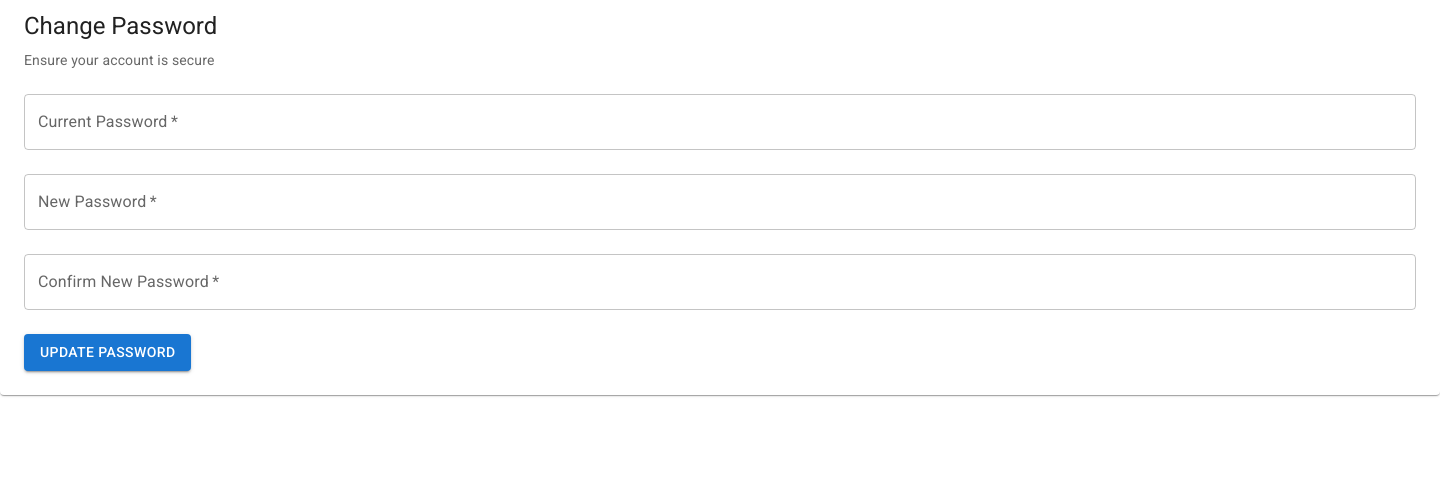
Scenario: UpdatePasswordForm › shows success and clears fields on successful update
The width and height of the screenshot is (1440, 478).
In the password field labelled "Current Password *": (720, 122) [24,94,1416,150], type "oldpass"
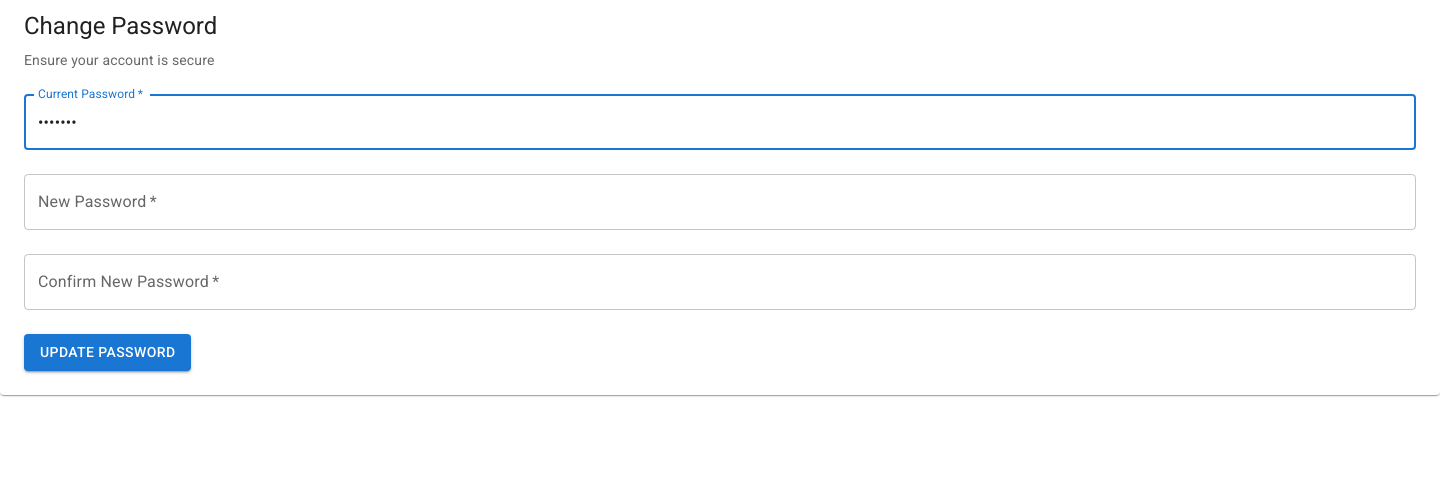
In the password field labelled "New Password *": (720, 202) [24,174,1416,230], type "newpass"
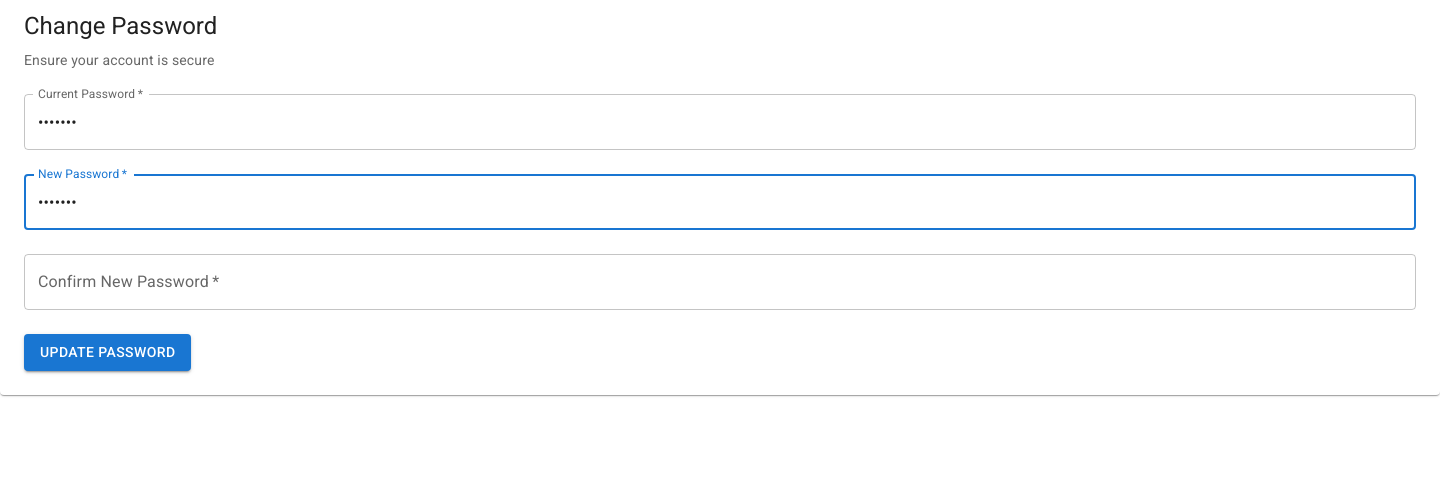
In the password field labelled "Confirm New Password *": (720, 282) [24,254,1416,310], type "newpass"
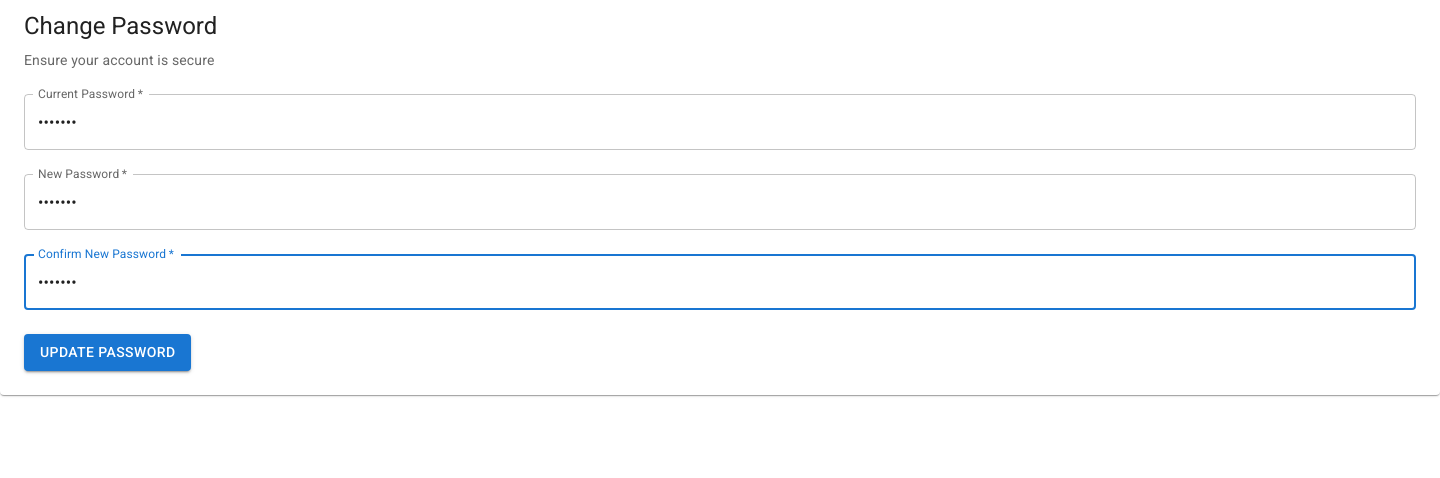
Click the button with test id "update-password-button": (108, 353) [24,334,192,371]
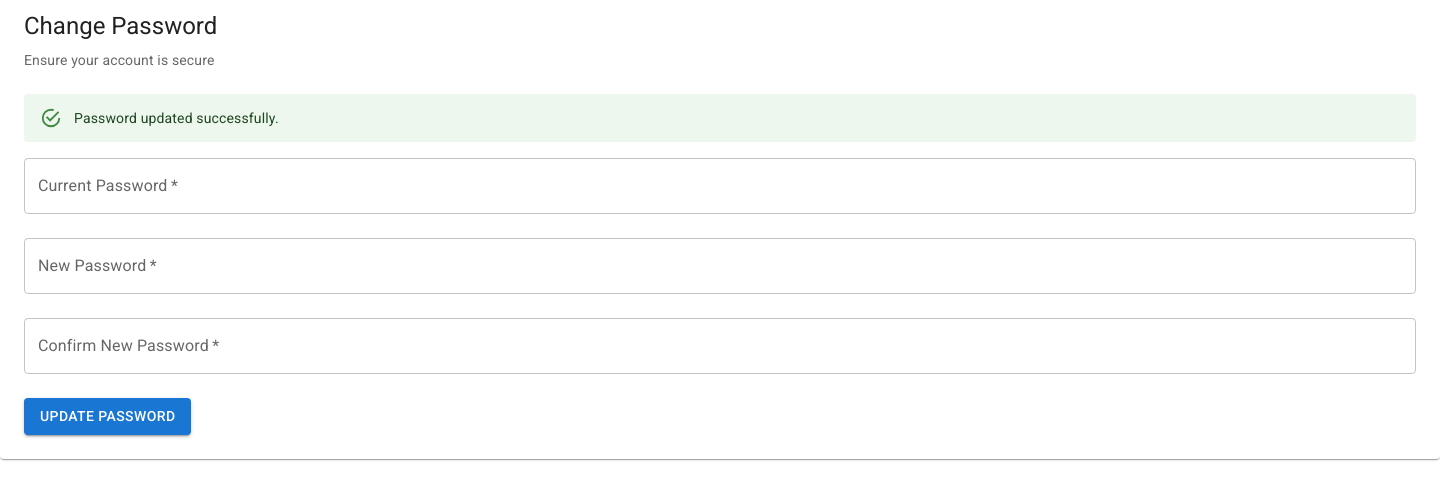
Check: the text "Password updated successfully." is shown, box [74,110,279,126]
Check: the password field labelled "Current Password *" is empty, box [24,158,1416,214]
Check: the password field labelled "New Password *" is empty, box [24,238,1416,294]
